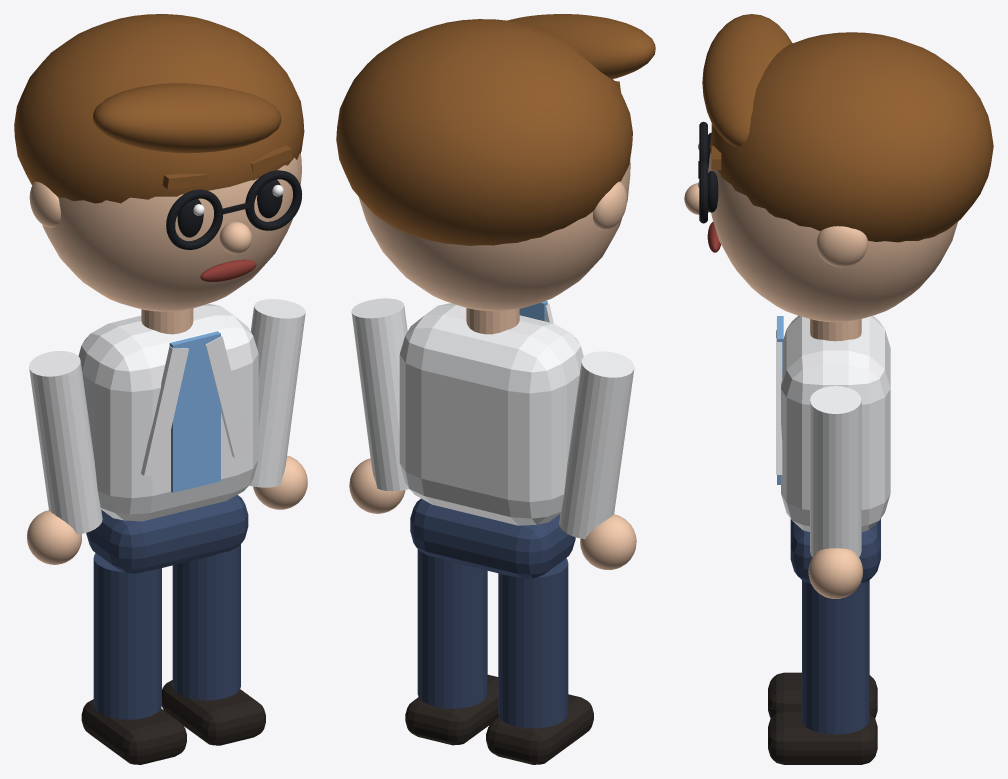
Rendered from cientifico.glb.
The picture shows the model from 3 angles, left to right: view 1: azimuth 30°, elevation 25°; view 2: azimuth 150°, elevation 25°; view 3: azimuth 270°, elevation 25°; orthographic projection. The views are drawn at different scales.
Visible parts, largest first — view 1: Sphere.011, Cube.003, Sphere.002, Sphere.012, Cylinder, Cylinder.001, Cylinder.002, Cube.002, Cylinder.003, Cube.004, Cube, Cube.001 (+14 smaller); view 2: Sphere.011, Cube.003, Sphere.002, Cylinder, Cylinder.001, Cylinder.002, Cube.002, Cylinder.003, Sphere.012, Cube, Cube.001, Sphere (+3 smaller); view 3: Sphere.011, Sphere.002, Cube.003, Cylinder.001, Cylinder.003, Sphere.012, Cube.001, Sphere.001, Cube.002, Sphere.006, Cube, Cylinder.004 (+2 smaller).
Boxes of the visible parts, left/top/right/bottom form: Sphere.011: left=14, top=14, right=304, bottom=203; Cube.003: left=78, top=304, right=258, bottom=521; Sphere.002: left=42, top=153, right=301, bottom=311; Sphere.012: left=93, top=83, right=281, bottom=153; Cylinder: left=93, top=553, right=161, bottom=719; Cylinder.001: left=172, top=544, right=240, bottom=700; Cylinder.002: left=29, top=351, right=102, bottom=534; Cube.002: left=86, top=495, right=248, bottom=573; Cylinder.003: left=249, top=299, right=305, bottom=487; Cube.004: left=169, top=331, right=220, bottom=492; Cube: left=81, top=699, right=186, bottom=764; Cube.001: left=162, top=680, right=265, bottom=745; Sphere.011: left=336, top=19, right=632, bottom=245; Cube.003: left=399, top=303, right=583, bottom=525; Sphere.002: left=358, top=160, right=630, bottom=311; Cylinder: left=498, top=558, right=568, bottom=728; Cylinder.001: left=417, top=549, right=487, bottom=708; Cylinder.002: left=559, top=351, right=634, bottom=539; Cube.002: left=410, top=498, right=575, bottom=578; Cylinder.003: left=351, top=298, right=408, bottom=491; Sphere.012: left=507, top=14, right=655, bottom=79; Cube: left=486, top=694, right=593, bottom=764; Cube.001: left=405, top=674, right=499, bottom=745; Sphere: left=580, top=514, right=636, bottom=569; Sphere.011: left=710, top=32, right=993, bottom=242; Sphere.002: left=708, top=151, right=957, bottom=322; Cube.003: left=781, top=315, right=890, bottom=531; Cylinder.001: left=802, top=580, right=869, bottom=734; Cylinder.003: left=810, top=386, right=861, bottom=556; Sphere.012: left=702, top=14, right=792, bottom=146; Cube.001: left=768, top=710, right=877, bottom=764; Sphere.001: left=808, top=548, right=862, bottom=598; Cube.002: left=790, top=519, right=880, bottom=582; Sphere.006: left=816, top=226, right=867, bottom=267; Cube: left=768, top=672, right=877, bottom=718; Cylinder.004: left=810, top=319, right=861, bottom=341.
Bounding box in the file's own units: 0.97 × 2.35 × 0.96.
